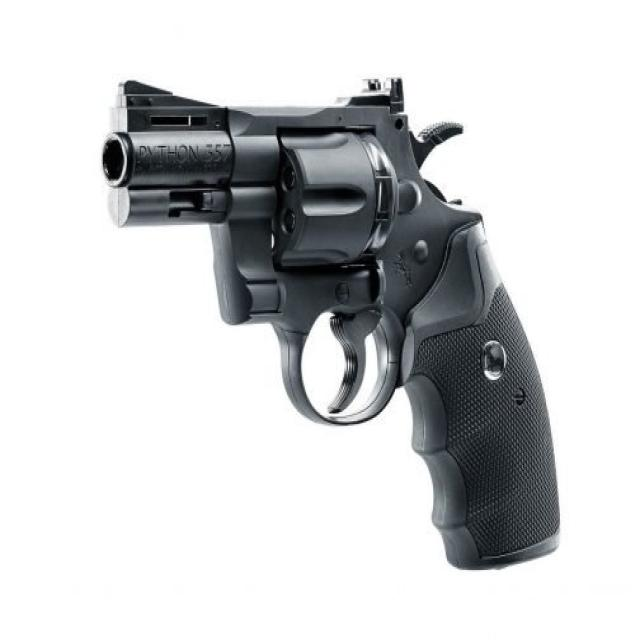handgun: (78, 69, 566, 576)
